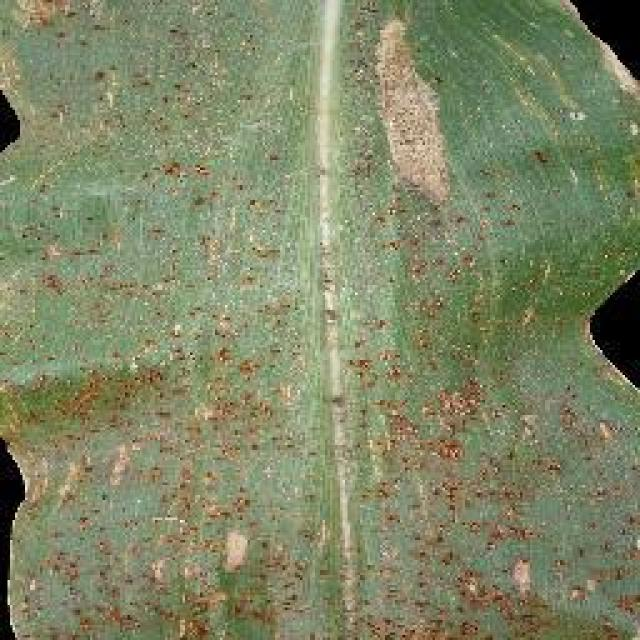Corn Common Rust: (61, 73, 640, 636)
